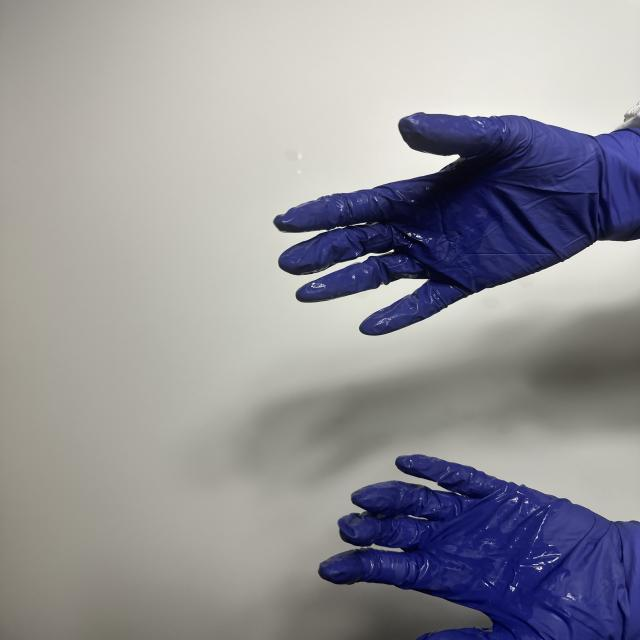gloves_contaminated: (274, 113, 640, 335), (319, 454, 640, 640)
